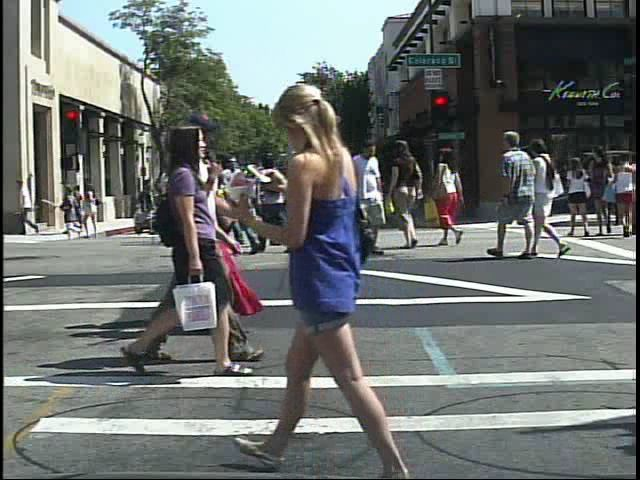person: (251, 73, 443, 478), (127, 116, 245, 382), (159, 133, 269, 341), (190, 104, 265, 365), (174, 132, 219, 334), (345, 136, 390, 260), (529, 133, 569, 263), (495, 127, 533, 261), (217, 140, 259, 261), (395, 135, 434, 258), (259, 150, 302, 261), (432, 145, 475, 254), (252, 148, 294, 249), (181, 154, 220, 251), (213, 151, 250, 251), (564, 148, 596, 241), (157, 172, 178, 241), (68, 182, 89, 232)
